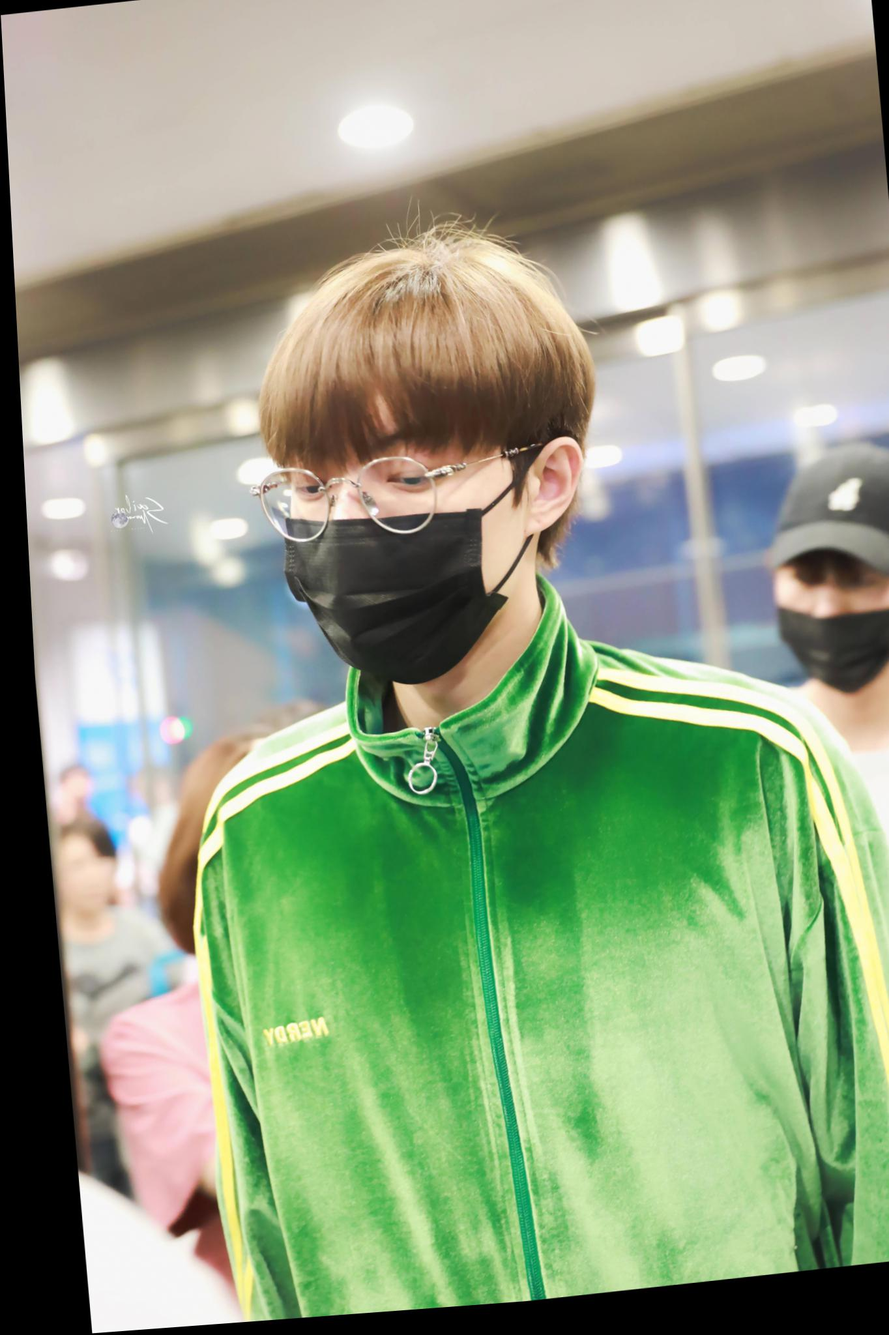NONE: (50, 836, 116, 920)
OK: (270, 432, 504, 704)
WRONG: (766, 568, 889, 712)
